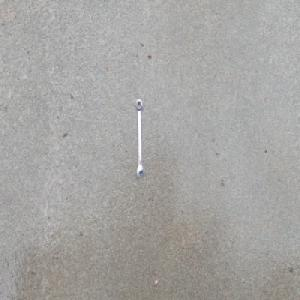Wrench: (135, 97, 144, 179)
